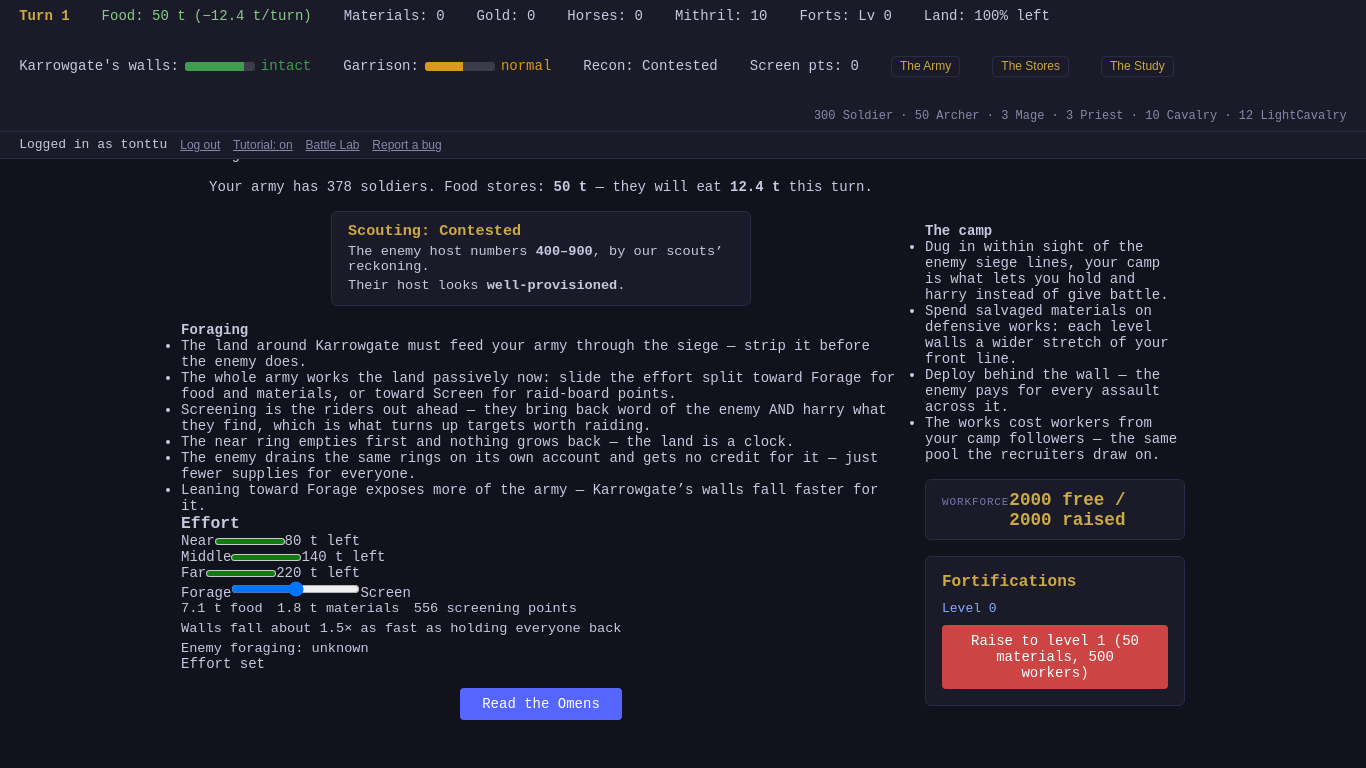
Test case: campaign flow › a 404 on a campaign action (stale save wiped by a new build) recovers to the start screen
(page scrolled)
Click the button with test id "to-omens" at (541, 704), box [460, 688, 622, 720]
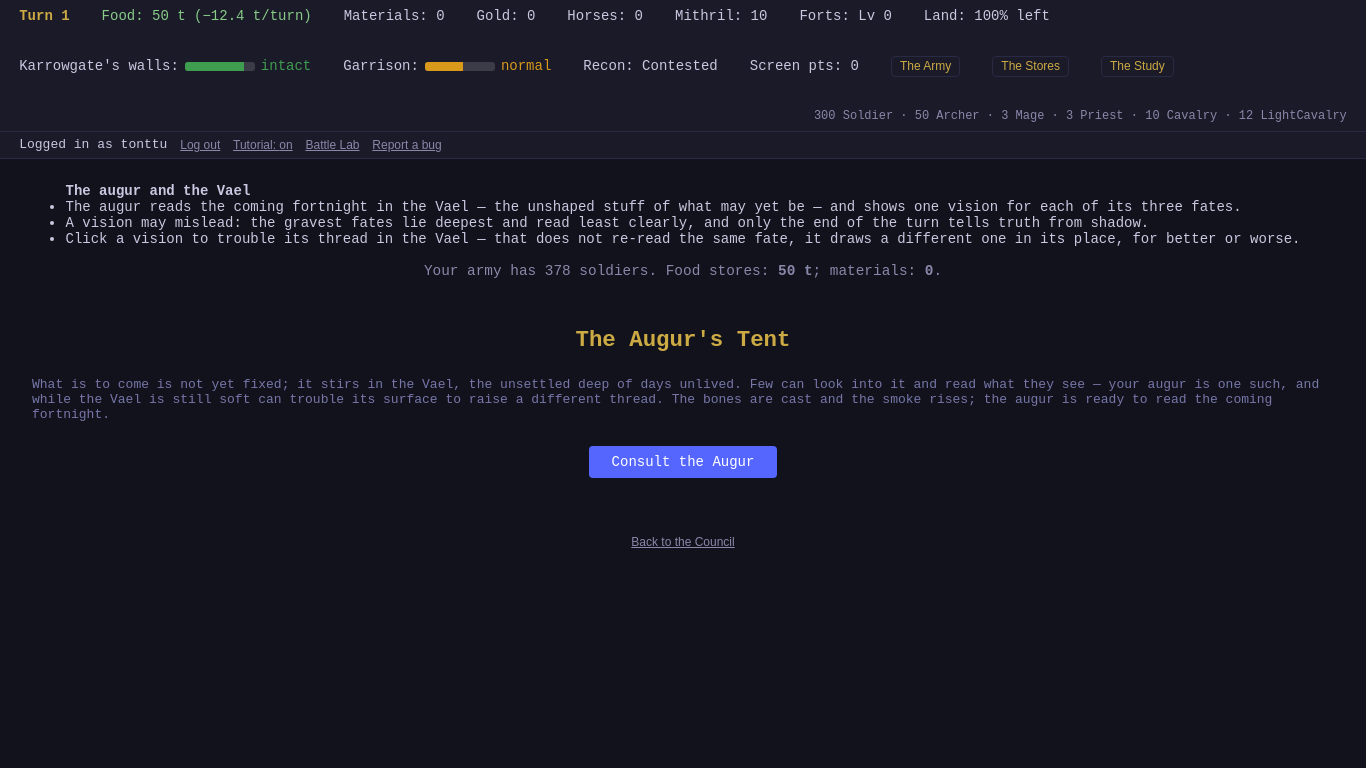
Click the button with test id "consult-augur" at (683, 462), box [589, 446, 777, 478]
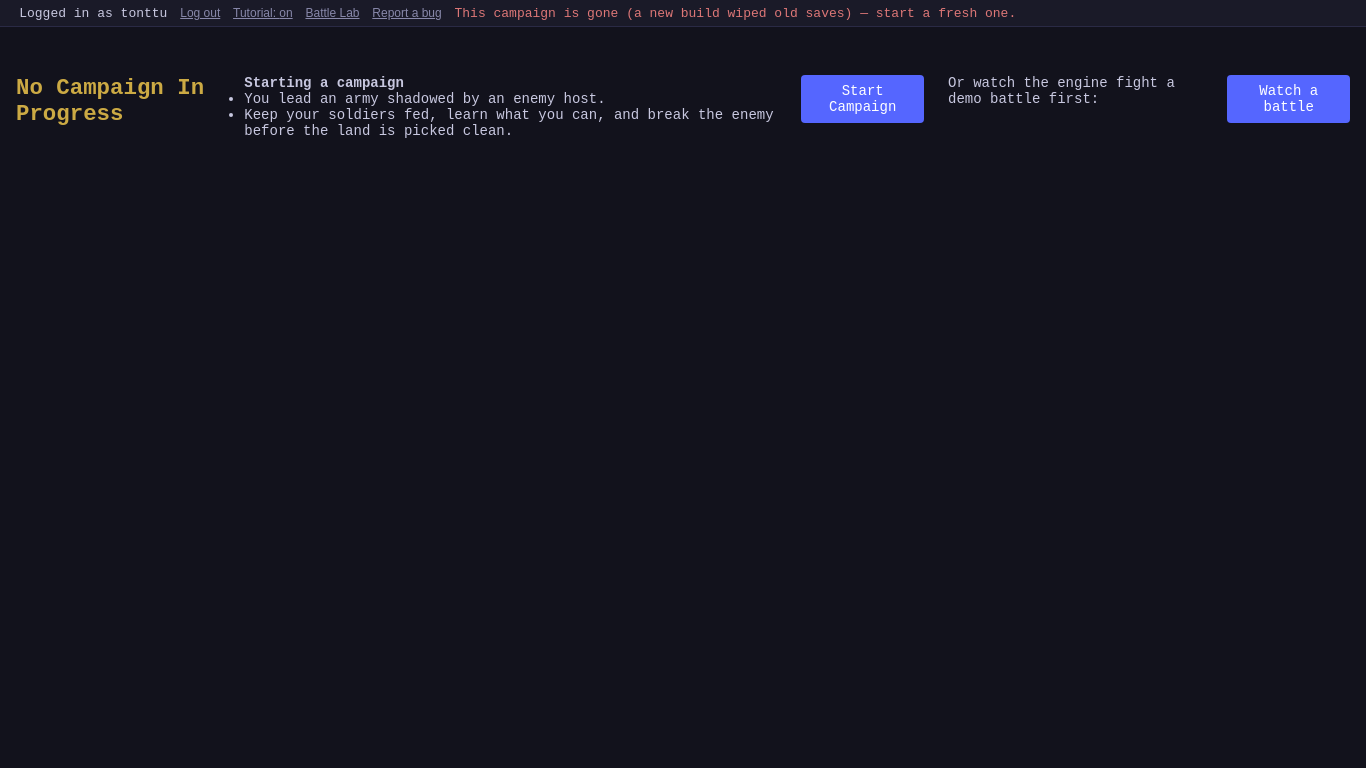
expect the heading "No Campaign In Progress" is shown: met, box [16, 75, 220, 127]
expect the text with test id "auth-notice" shows "new build wiped old saves": met, box [454, 6, 1016, 21]
